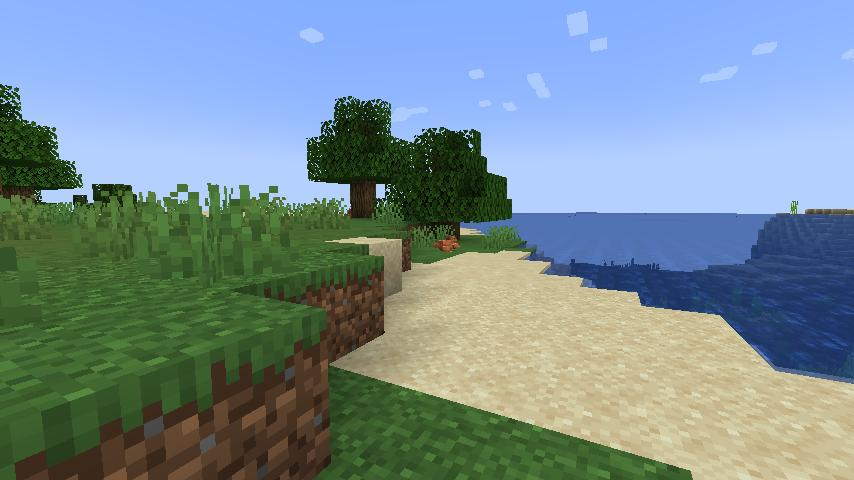frog: (432, 231, 461, 256)
